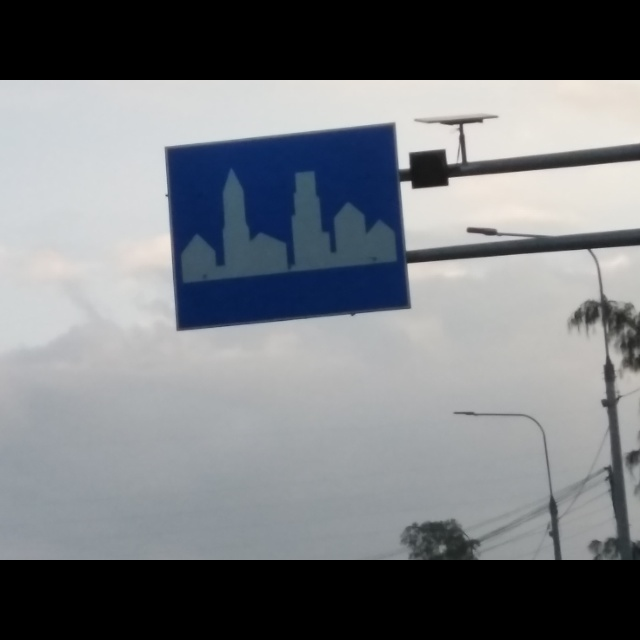Khu đông dân cư: (165, 120, 416, 334)
